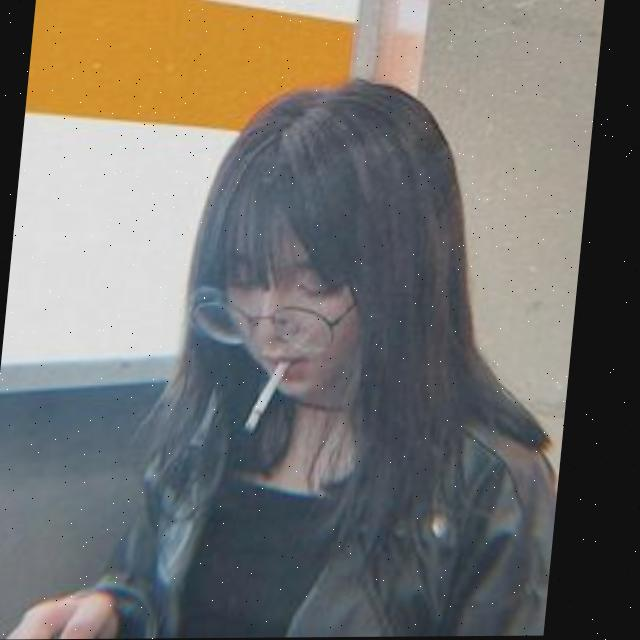cigarette: (249, 352, 296, 431)
